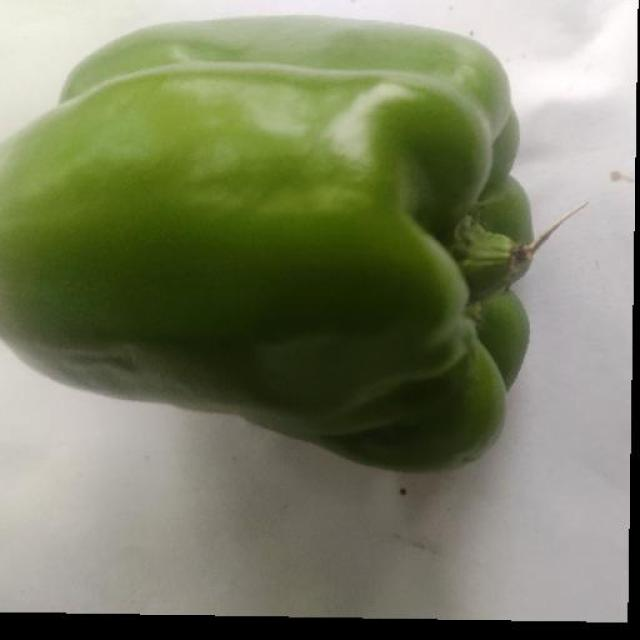Fresh_Capsicum: (16, 35, 584, 440)
